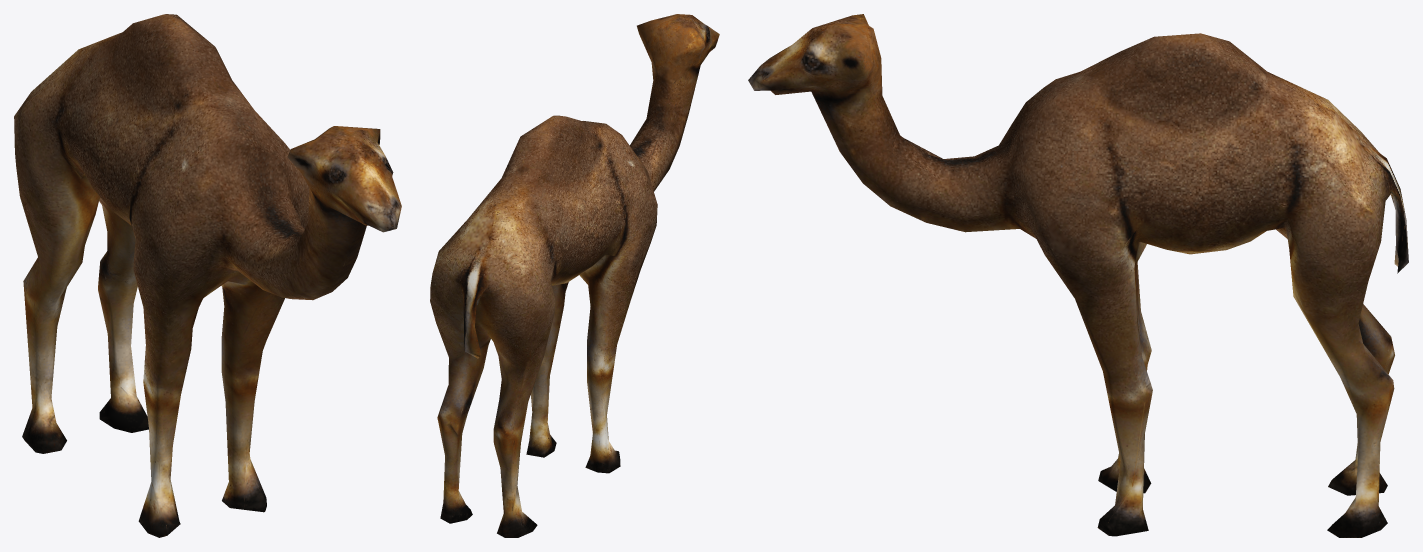
Rendered from uploads_files_5014809_Camel_Low_Poly.fbx.
3 renders of one model, left to right at view 1: azimuth 30°, elevation 25°; view 2: azimuth 150°, elevation 25°; view 3: azimuth 270°, elevation 25°, orthographic. The views are drawn at different scales.
Parts seen in each view (by area): view 1: Camel_Low_Poly; view 2: Camel_Low_Poly; view 3: Camel_Low_Poly.
Part boxes in pixels (left/top/right/bottom): Camel_Low_Poly: left=14, top=14, right=401, bottom=537; Camel_Low_Poly: left=430, top=14, right=719, bottom=537; Camel_Low_Poly: left=748, top=14, right=1408, bottom=537.
Size of the model in its own units: 74.49 by 224 by 274.
